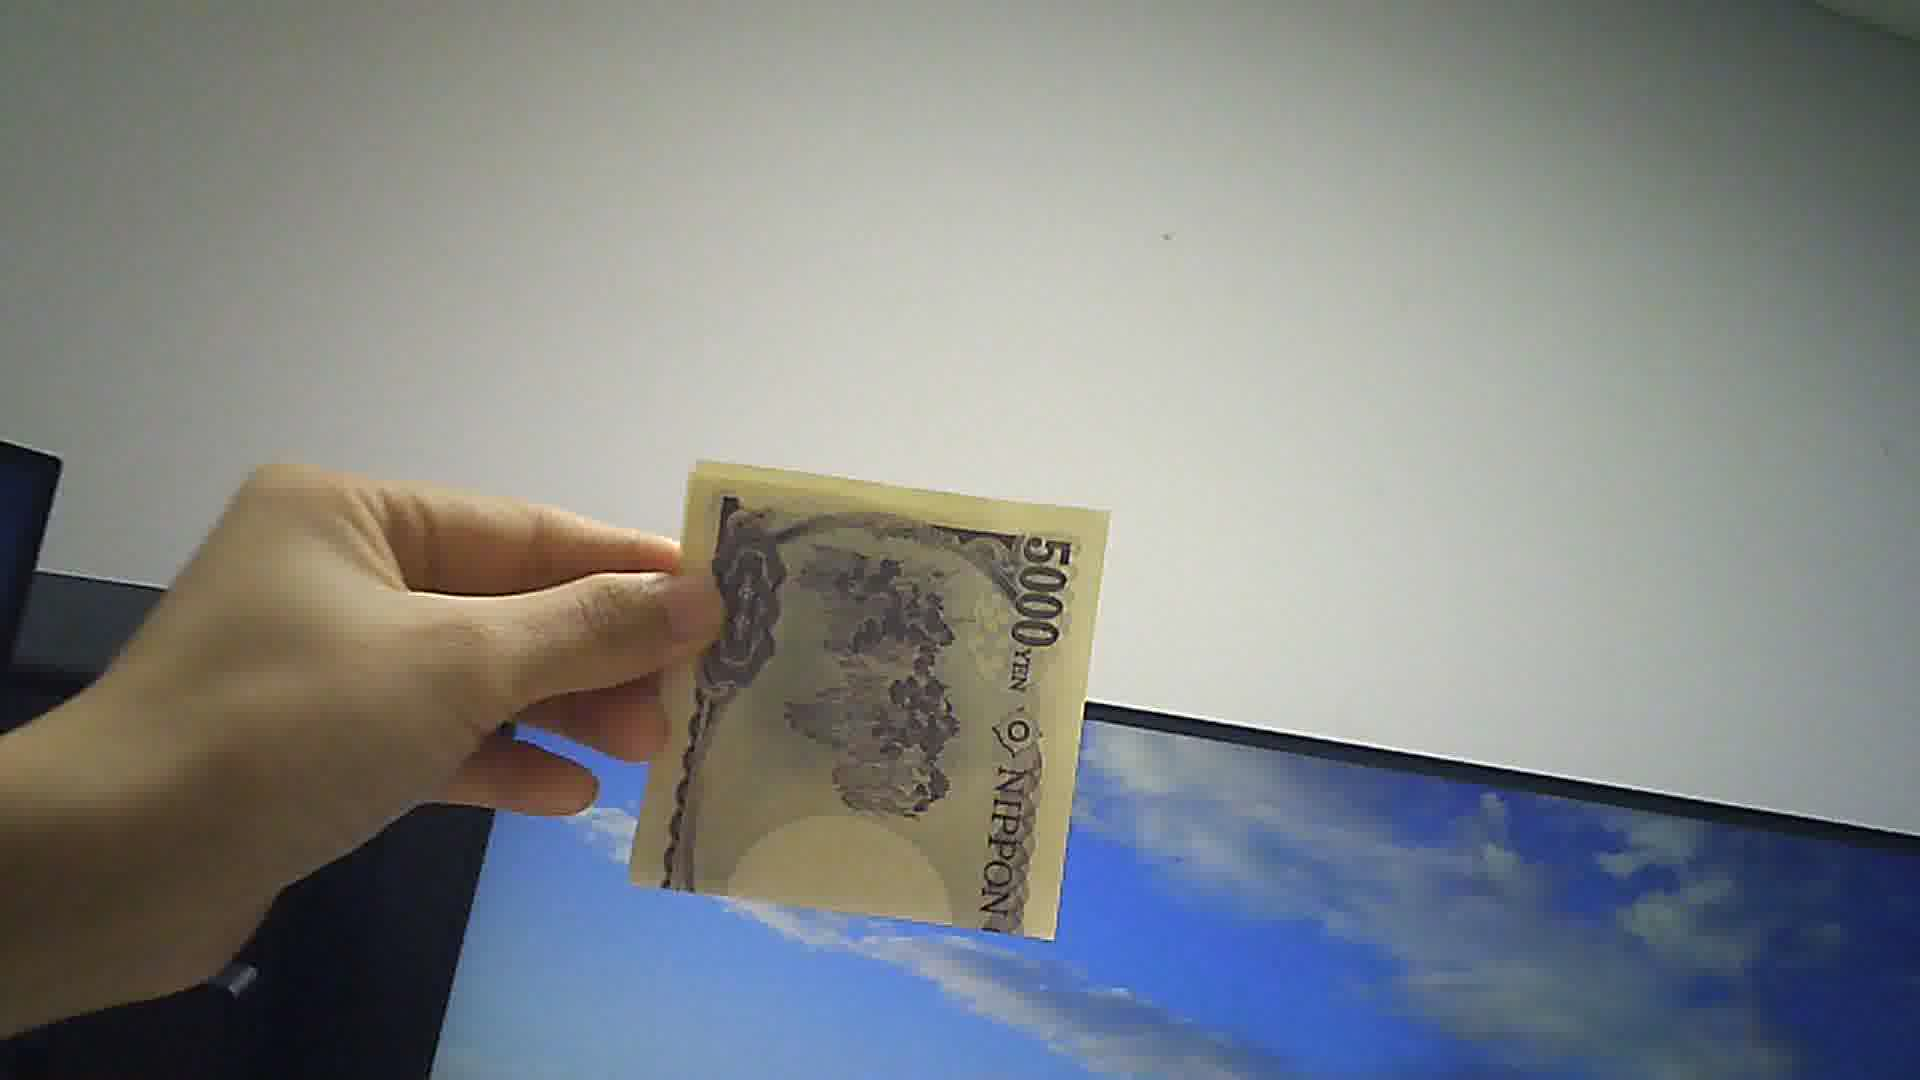5,000 Yen: (630, 446, 1129, 973)
